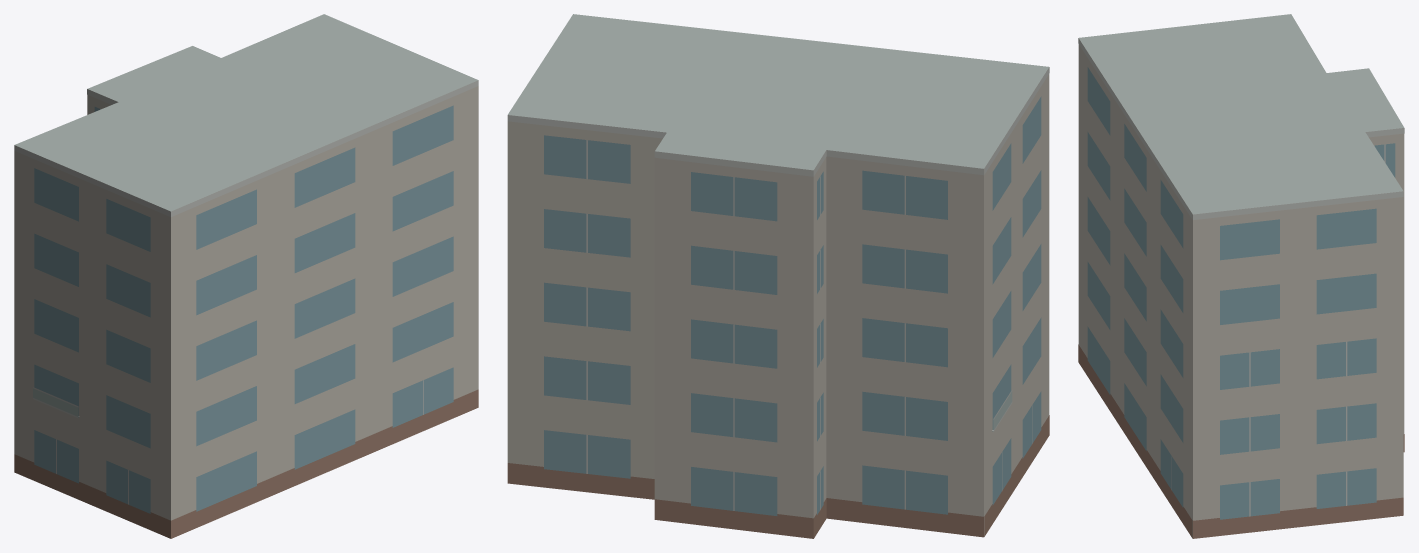
Rendered from survey-upis-32650723.glb.
3 views of the same model, side by side, from view 1: azimuth 30°, elevation 25°; view 2: azimuth 150°, elevation 25°; view 3: azimuth 270°, elevation 25° (orthographic). The views are drawn at different scales.
Parts seen in each view (by area): view 1: survey-upis-32650723.tmp; view 2: survey-upis-32650723.tmp; view 3: survey-upis-32650723.tmp.
Boxes of the visible parts, box(x1,y1,x2,y2) form: survey-upis-32650723.tmp: box(14, 14, 478, 538); survey-upis-32650723.tmp: box(507, 14, 1049, 538); survey-upis-32650723.tmp: box(1078, 14, 1404, 538).
Size of the model in its own units: 18.57 by 14 by 12.76.
